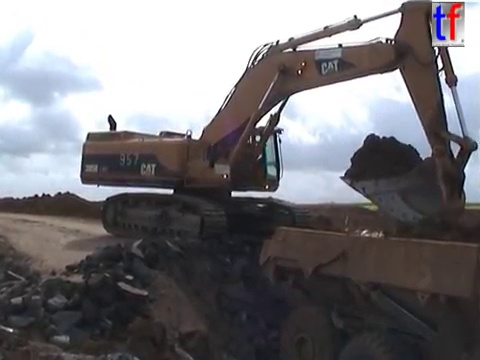excavator: (75, 1, 480, 245)
truck: (254, 205, 480, 360)
